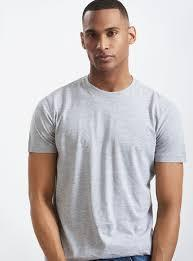Tshirt: (28, 73, 187, 261)
